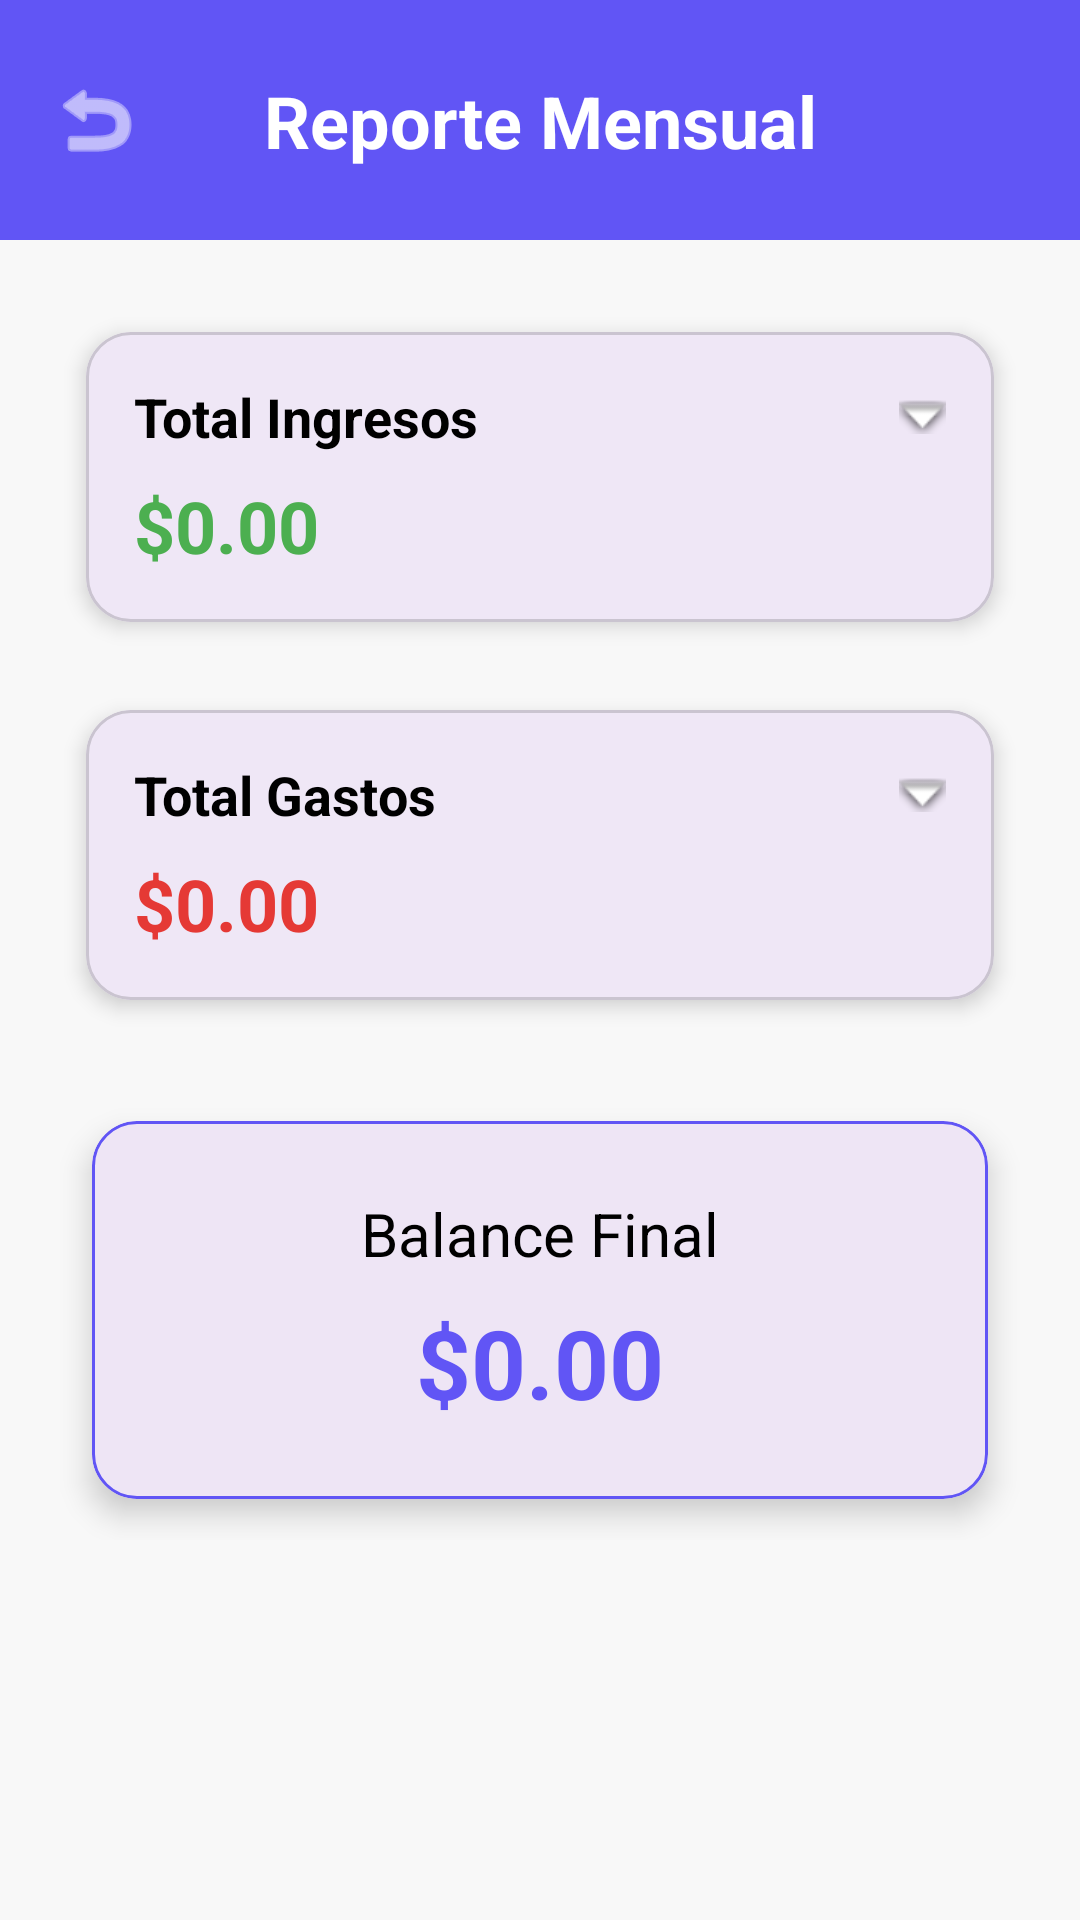

Icon click points for this 1080*1920 phone screenshot, format point (x, y):
arrow down float: point (922, 417), point (922, 795)
revert: point (97, 120)
